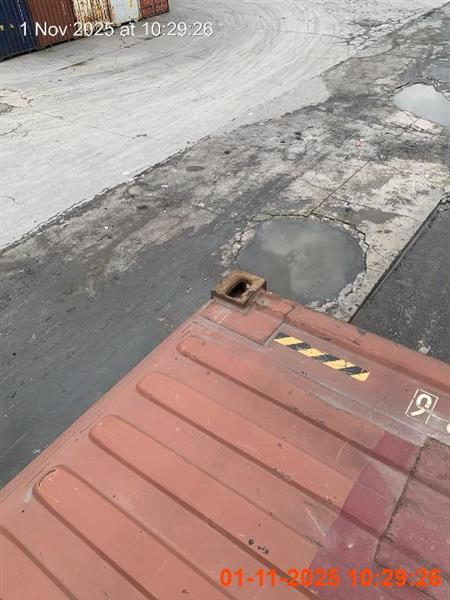scratch: (0, 267, 448, 599), (0, 269, 449, 599)
